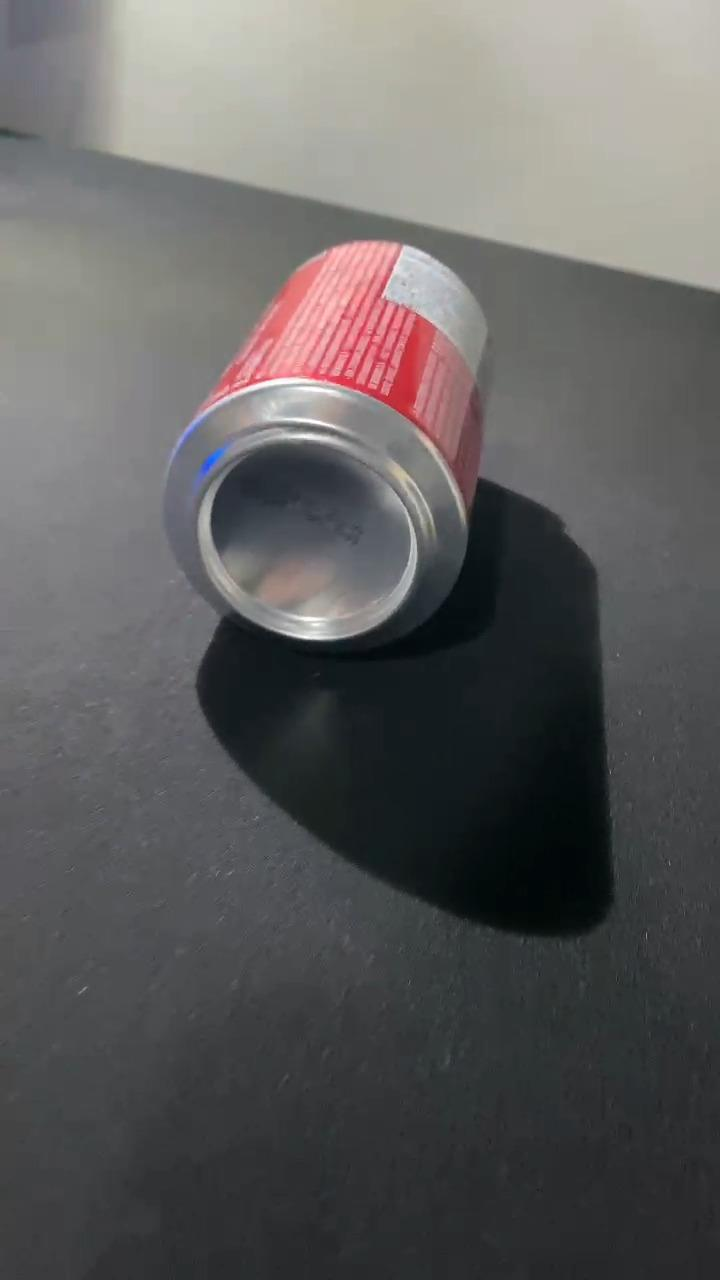coke: (162, 246, 494, 645)
